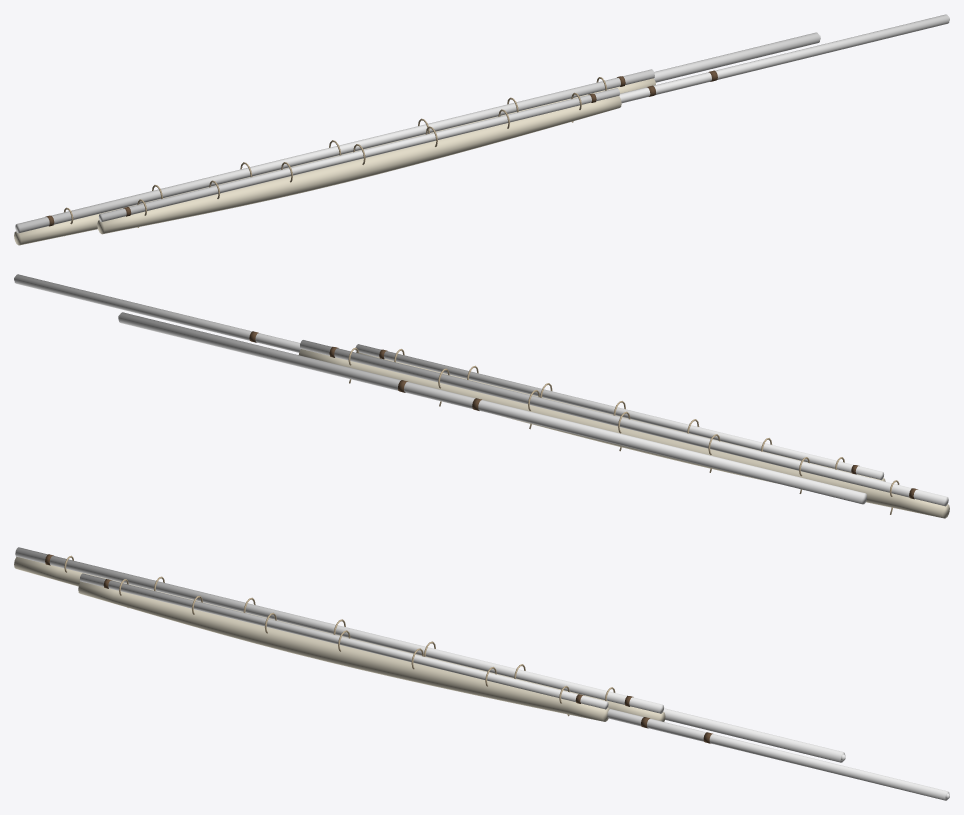
Rendered from rig_stowed.fbx.
3 views of the same model, one above another, from view 1: azimuth 30°, elevation 25°; view 2: azimuth 150°, elevation 25°; view 3: azimuth 330°, elevation 25° (orthographic).
Visible parts, largest first — view 1: Rig_Stowed; view 2: Rig_Stowed; view 3: Rig_Stowed.
Boxes of the visible parts, x1=… form: Rig_Stowed: x1=14, y1=14, x2=949, y2=245; Rig_Stowed: x1=14, y1=274, x2=949, y2=518; Rig_Stowed: x1=14, y1=547, x2=949, y2=800.
Size of the model in its own units: 644 by 23.68 by 30.59.
